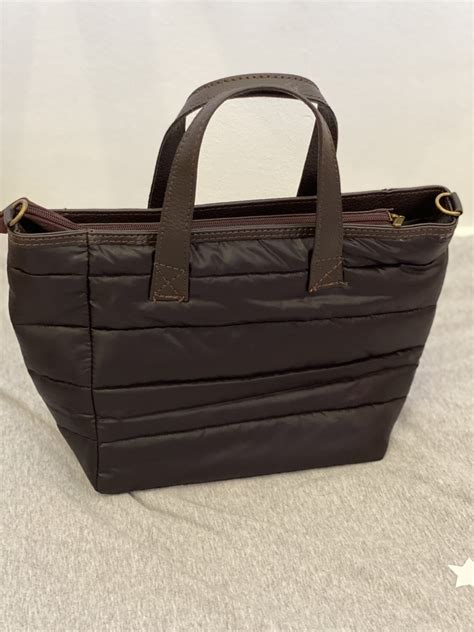nylon: (9, 236, 463, 497)
